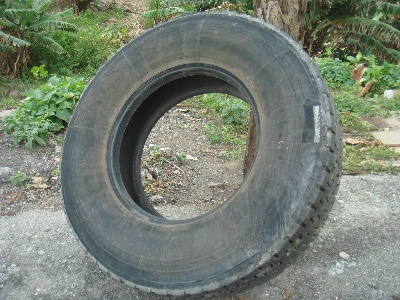tire: (54, 8, 347, 295)
